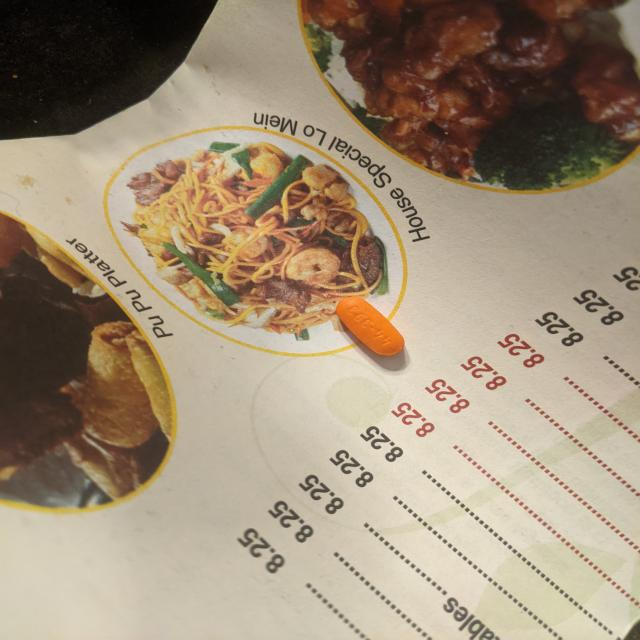non-organic waste: (334, 296, 406, 356)
